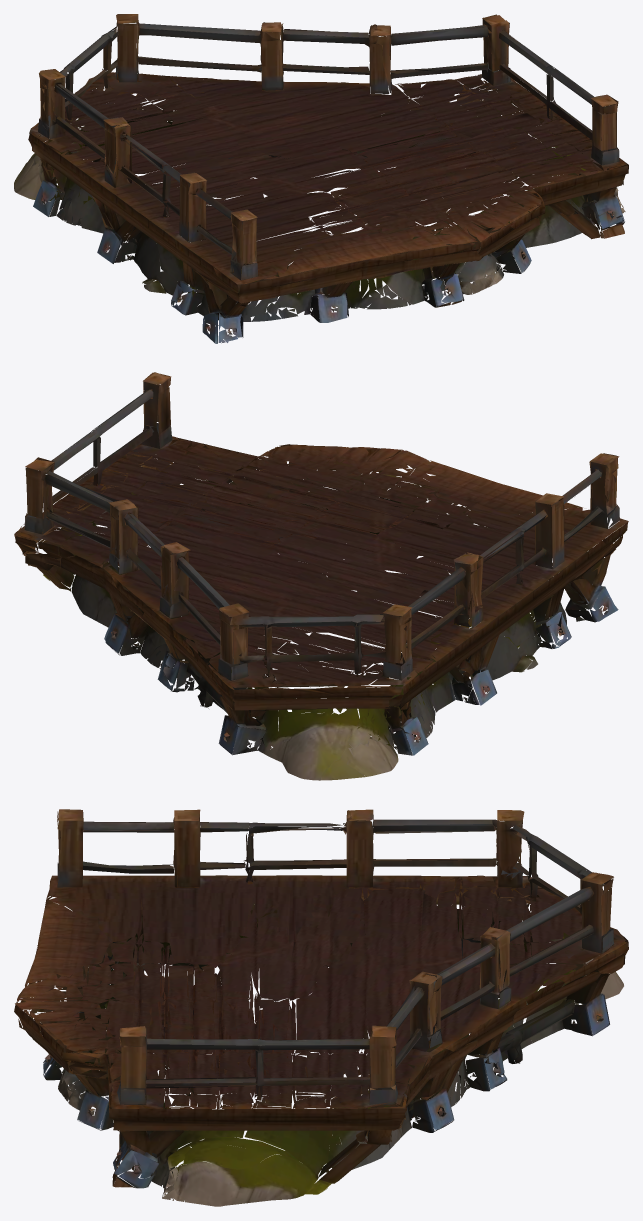
The model's file is ch03_cliff_overlook_platform.glb.
The picture shows the model from 3 angles, top to bottom: view 1: azimuth 30°, elevation 25°; view 2: azimuth 150°, elevation 25°; view 3: azimuth 270°, elevation 25°; orthographic projection. The views are drawn at different scales.
Visible parts, largest first — view 1: material; view 2: material; view 3: material.
Boxes of the visible parts, <box> form: material: <box>14,14,628,343</box>; material: <box>14,372,628,780</box>; material: <box>14,809,628,1206</box>.
Size of the model in its own units: 0.7714 by 0.2136 by 0.786.
1 material, 1 textured.
